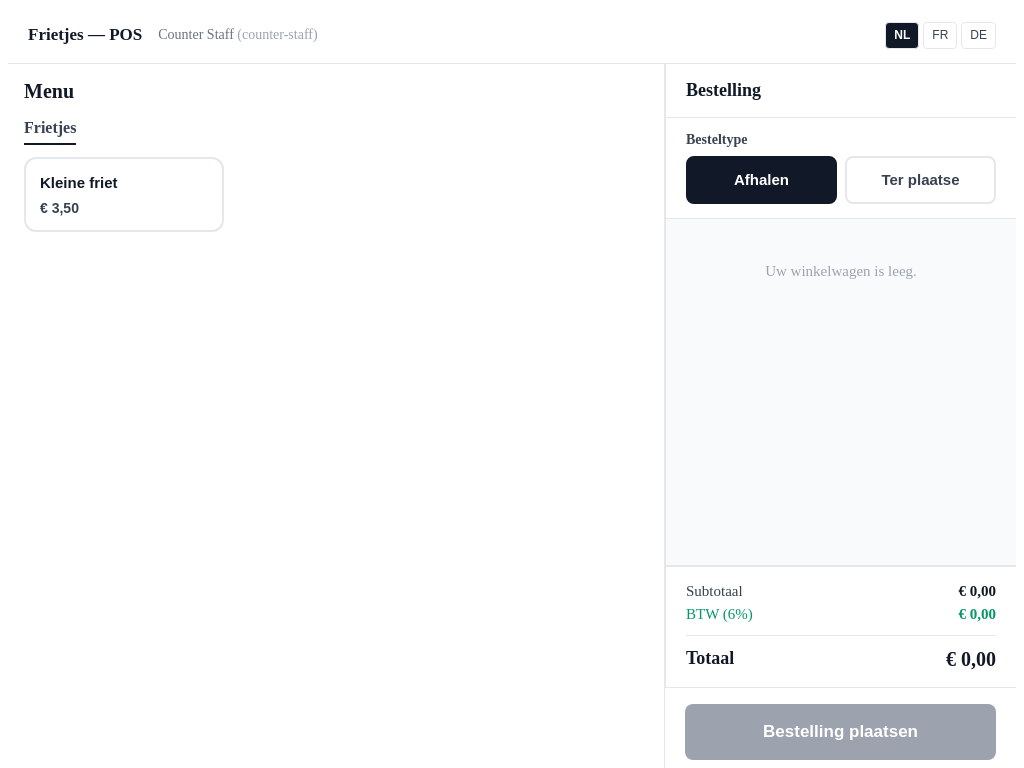
Test case: PosDashboard — EatIn submit guard (t-17, AC4) › Place Order button is enabled after entering a table number for EatIn
// Add item
Click the text "Kleine friet". click: [79, 183]
box: [40,173,118,192]
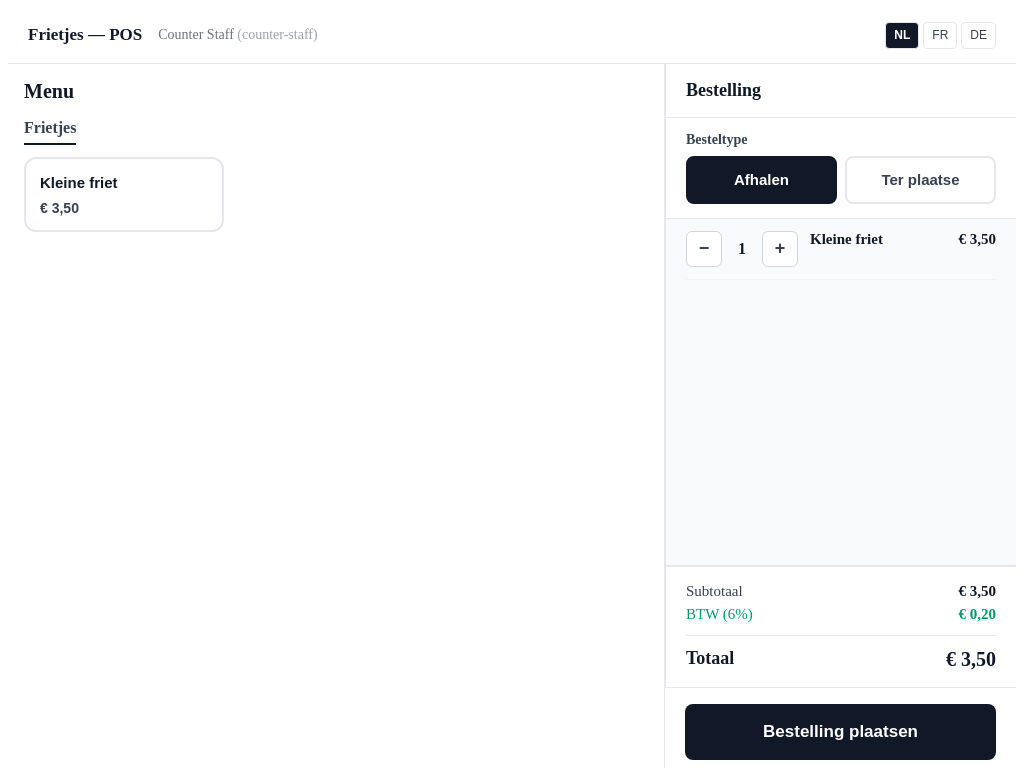
Click the button with test id "order-type-eatin". click: [920, 180]
box: [845,156,996,204]
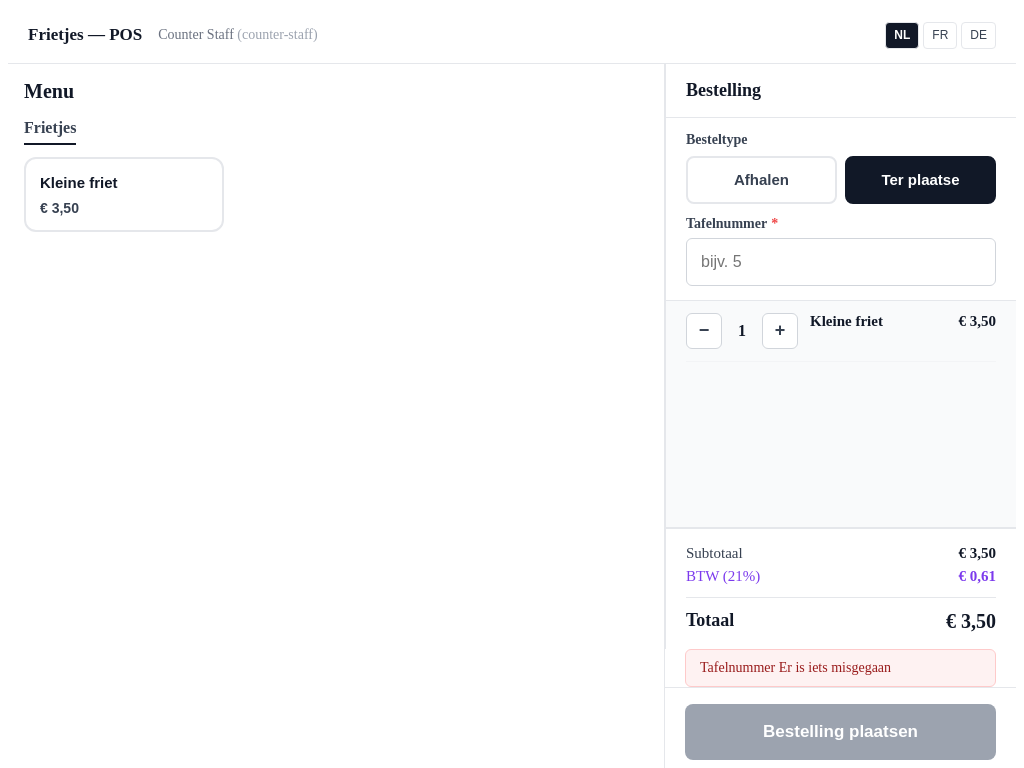
Check: the number field with test id "table-number-input" is shown
Check: the button "Bestelling plaatsen" is disabled, box [685,704,996,760]
// Enter a valid table number
Type "3" into the number field with test id "table-number-input". click: [841, 262]
box: [686,238,996,286]
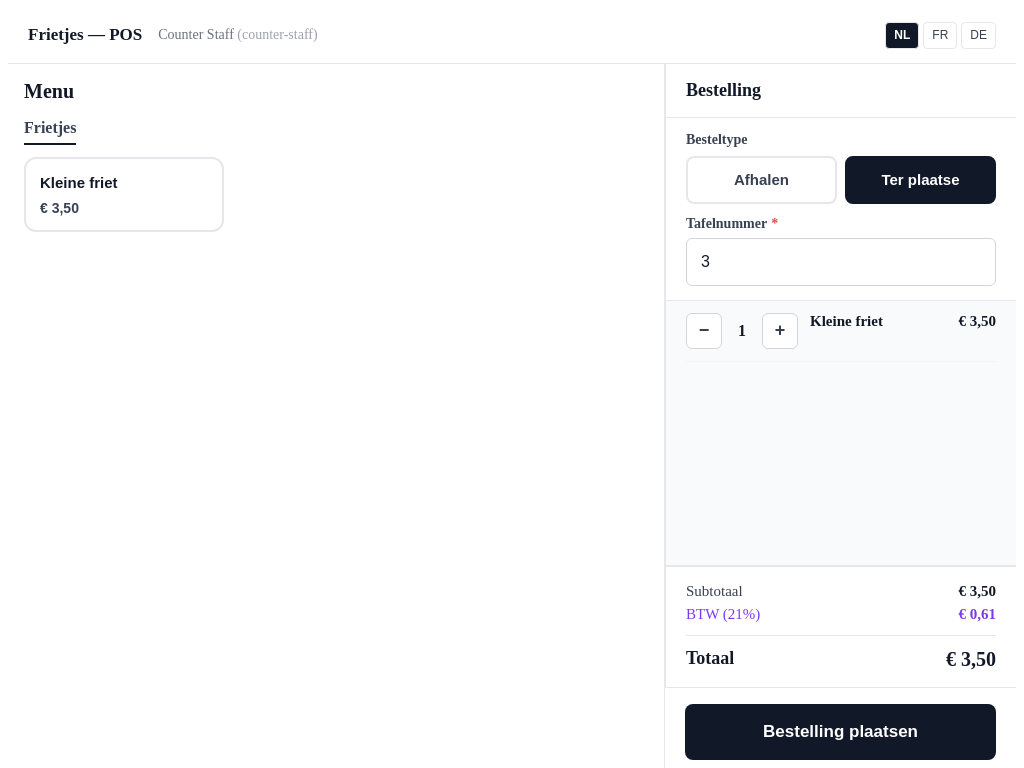
Check: the button "Bestelling plaatsen" is enabled, box [685,704,996,760]
